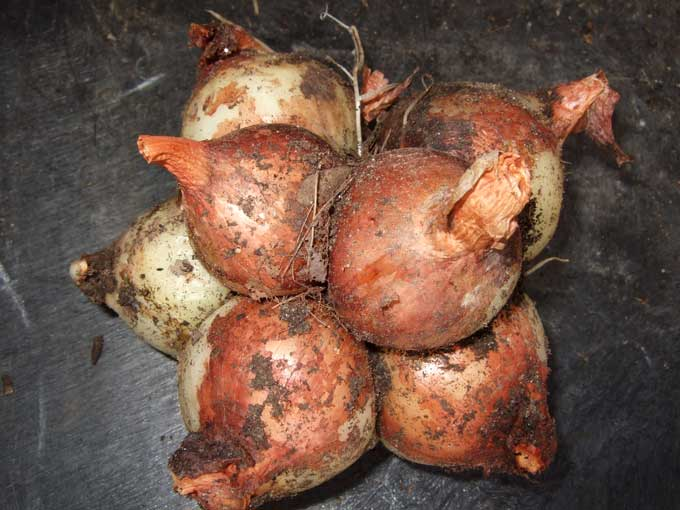onion: (312, 150, 554, 360), (167, 294, 384, 504), (136, 121, 357, 299)
